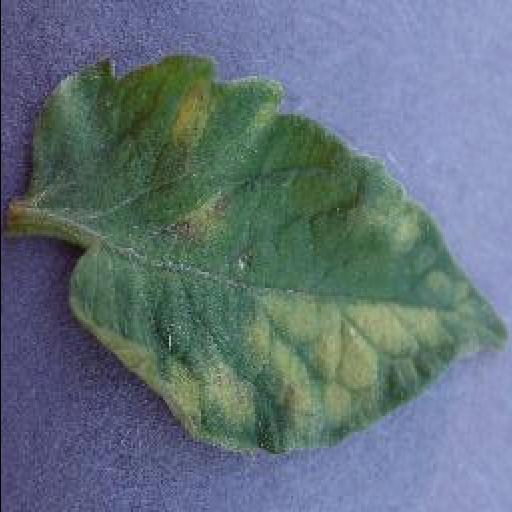disease_tomato: (31, 59, 509, 456)
